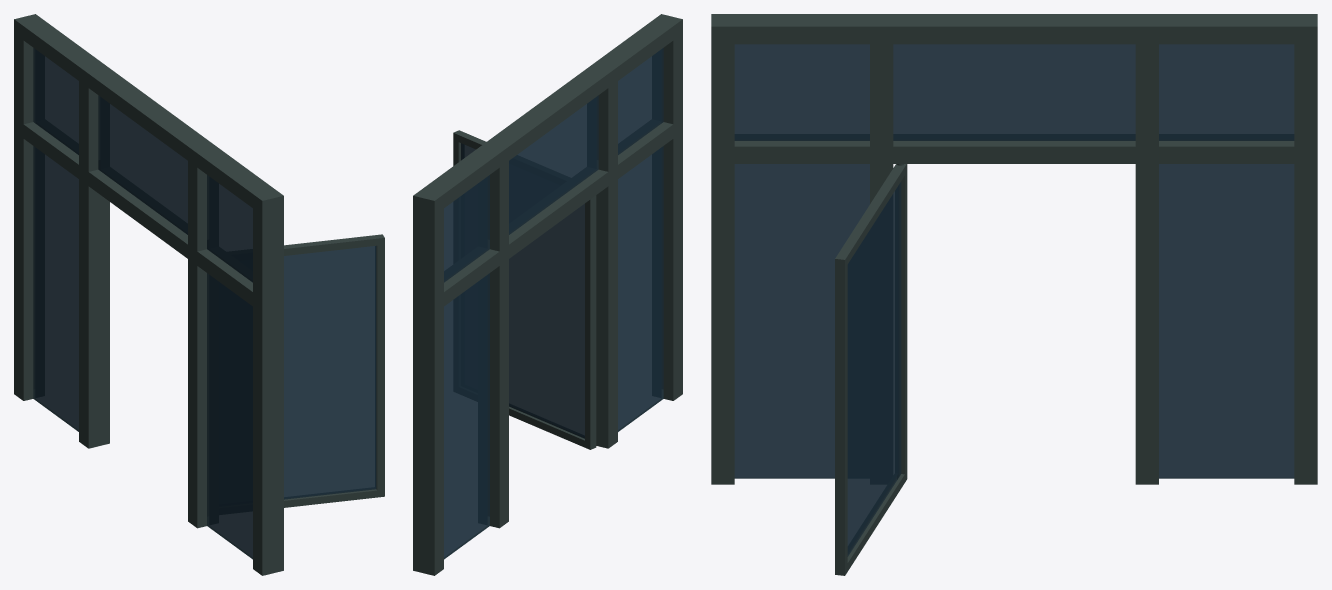
File: small gate way.fbx
3 views of the same model, side by side, from view 1: azimuth 30°, elevation 25°; view 2: azimuth 150°, elevation 25°; view 3: azimuth 270°, elevation 25° (orthographic). The views are drawn at different scales.
Parts seen in each view (by area): view 1: Cube.051; view 2: Cube.051; view 3: Cube.051.
Part boxes in pixels (<box>): Cube.051: <box>14,14,384,575</box>; Cube.051: <box>413,14,682,575</box>; Cube.051: <box>711,14,1317,575</box>.
Bounding box in the file's own units: 244 × 500 × 600.
